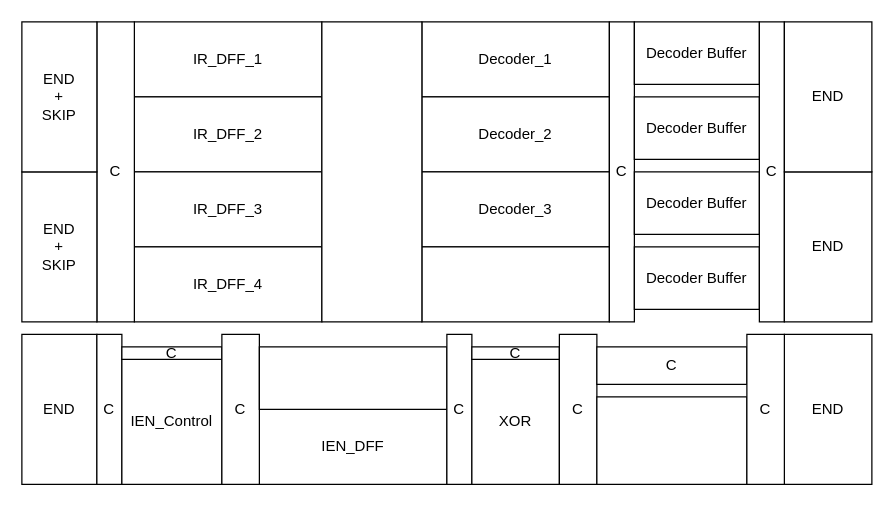
Image size: 894x506. Some labels were removed from this diagram. Here are the shapes that lost their labels. From the top down, the centre of each, then its label:
(371,171): Conn. + Buffers
(515,284): Decoder_4
(352,377): Display + Connector
(671,440): Glue Logic
